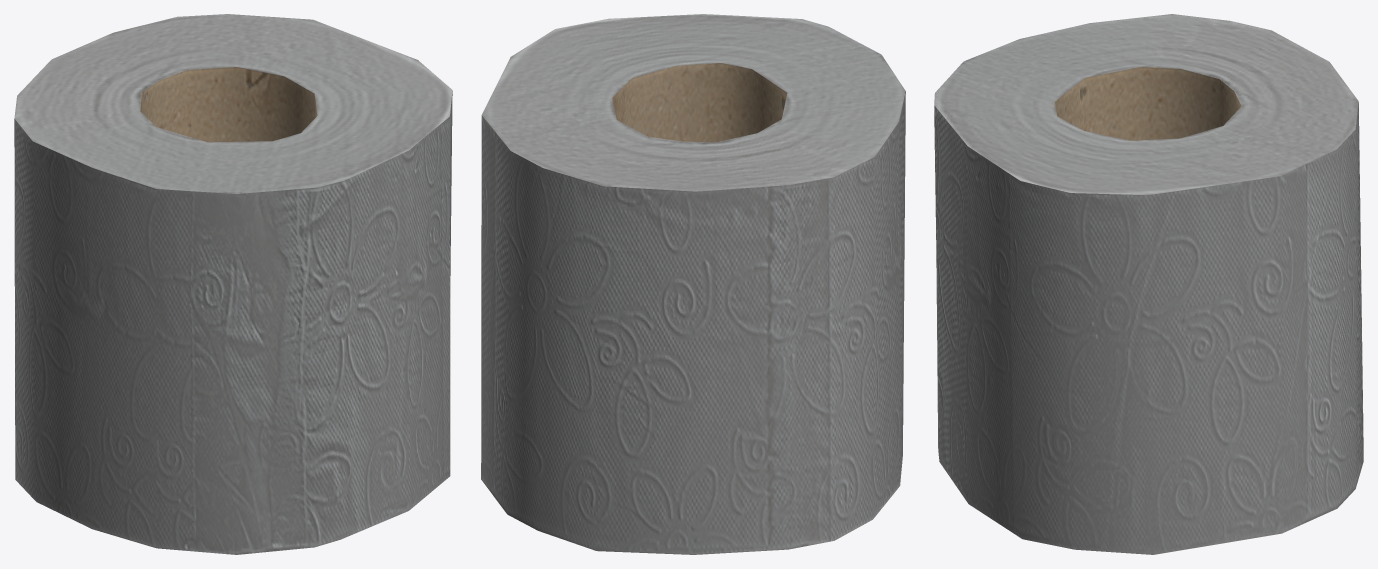
The model's file is SM_ToiletRoll.FBX.
The picture shows the model from 3 angles, left to right: view 1: azimuth 30°, elevation 25°; view 2: azimuth 150°, elevation 25°; view 3: azimuth 270°, elevation 25°; orthographic projection.
Parts seen in each view (by area): view 1: SM_ToiletRoll; view 2: SM_ToiletRoll; view 3: SM_ToiletRoll.
Boxes of the visible parts, x1,y1,x2,y2 form: SM_ToiletRoll: (14,14,452,554); SM_ToiletRoll: (481,14,905,554); SM_ToiletRoll: (934,14,1363,554).
Size of the model in its own units: 12.06 by 11.14 by 11.98.
